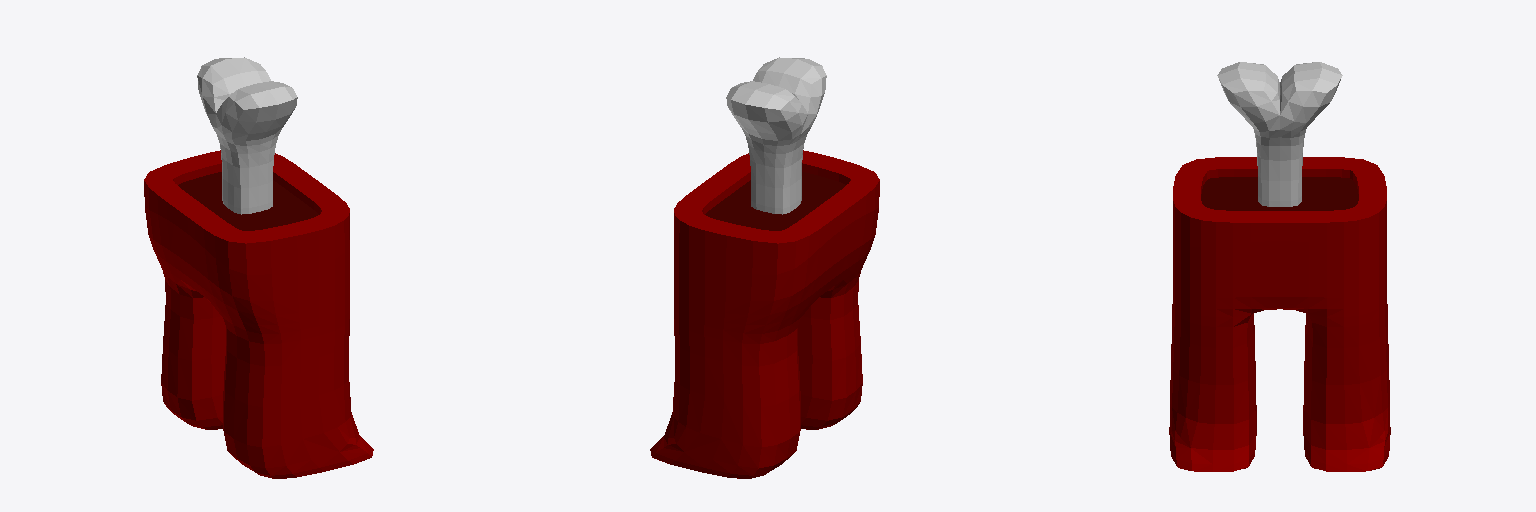
File: dead.obj
3 views of the same model, side by side, from view 1: azimuth 30°, elevation 25°; view 2: azimuth 150°, elevation 25°; view 3: azimuth 270°, elevation 25° (orthographic).
Visible parts, largest first — view 1: Dead_Body, Cube; view 2: Dead_Body, Cube; view 3: Dead_Body, Cube.
Boxes of the visible parts, x1=… form: Dead_Body: x1=144, y1=150, x2=373, y2=478; Cube: x1=197, y1=57, x2=297, y2=214; Dead_Body: x1=650, y1=150, x2=879, y2=478; Cube: x1=726, y1=57, x2=826, y2=214; Dead_Body: x1=1169, y1=157, x2=1390, y2=471; Cube: x1=1217, y1=62, x2=1342, y2=206.
Size of the model in its own units: 2.21 by 5.15 by 2.81.